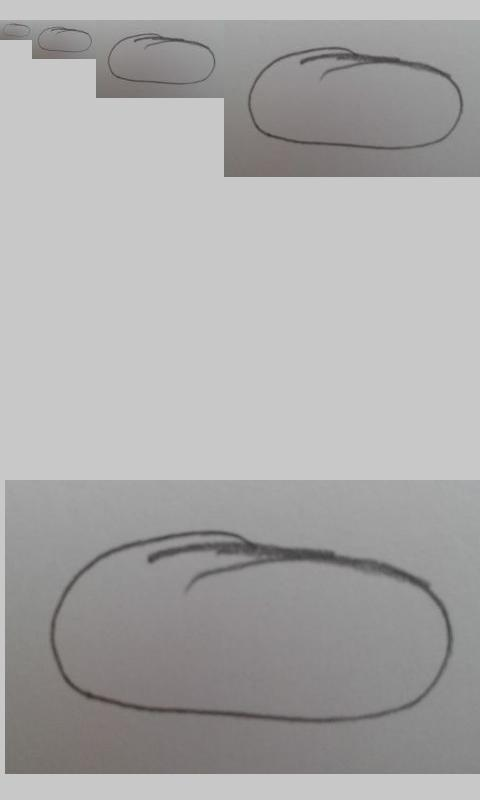chip: (47, 529, 456, 726), (248, 46, 464, 151), (107, 33, 216, 85), (37, 26, 93, 53), (2, 23, 31, 37)
